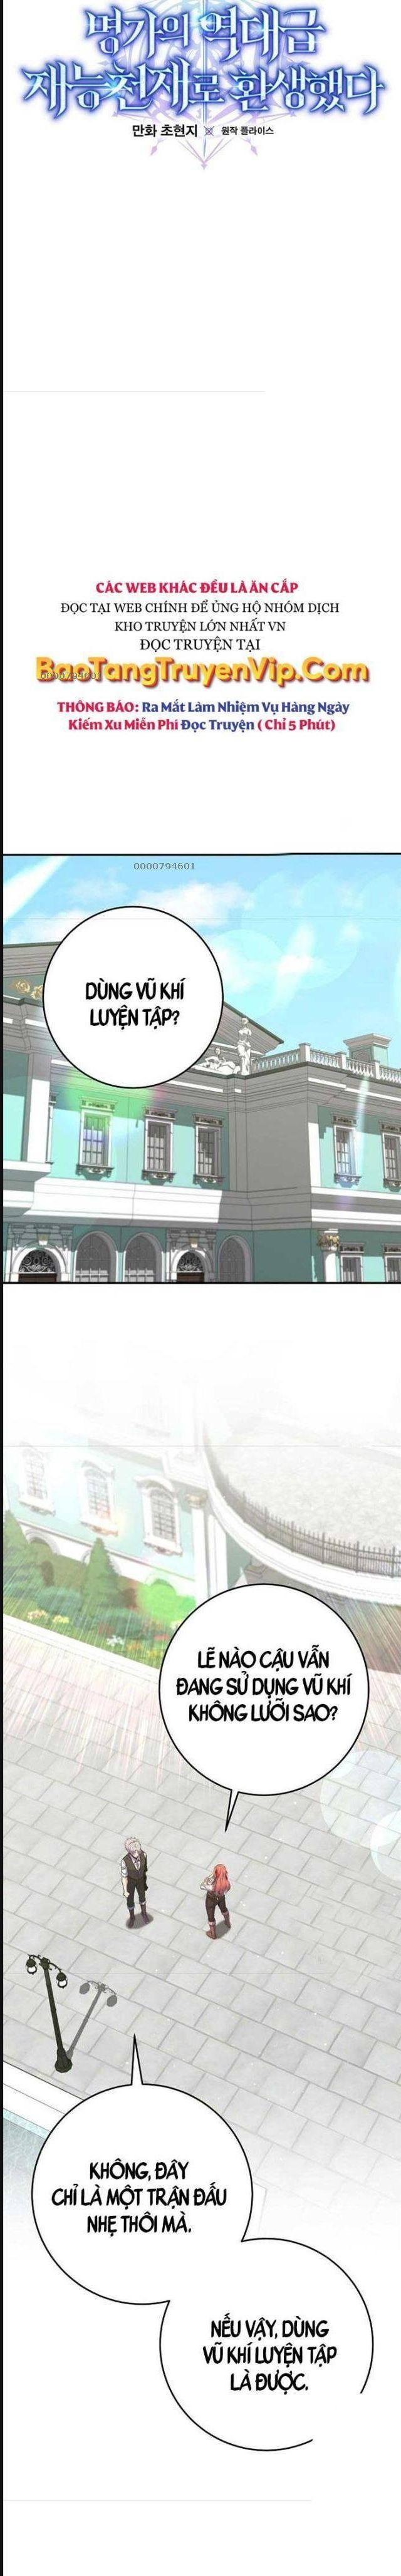quangcao: (21, 570, 380, 746)
